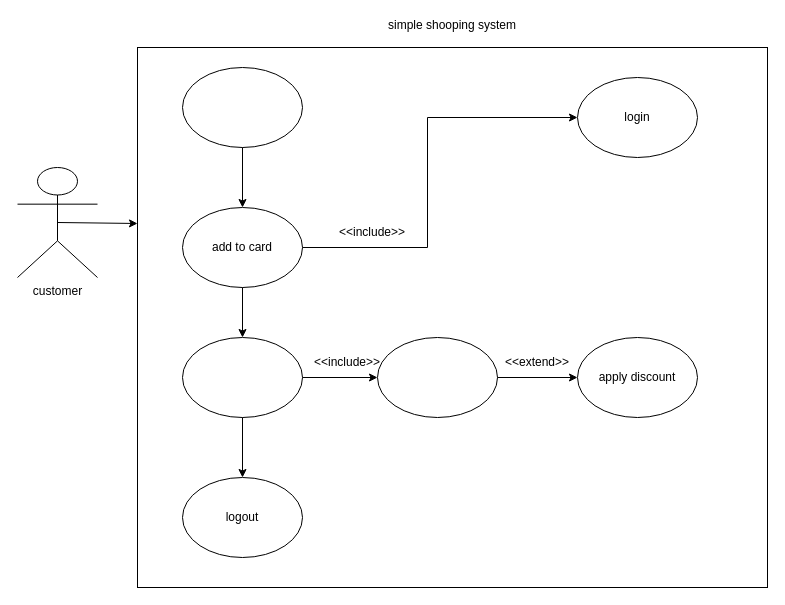
Image size: 785x605. Some labels were removed from this diagram. Here are the shapes that lost their labels. From the top down, the centre of each, then its label:
At point 242,107: "browse product".
At point 242,377: "buy product".
At point 437,377: "make a payment".
